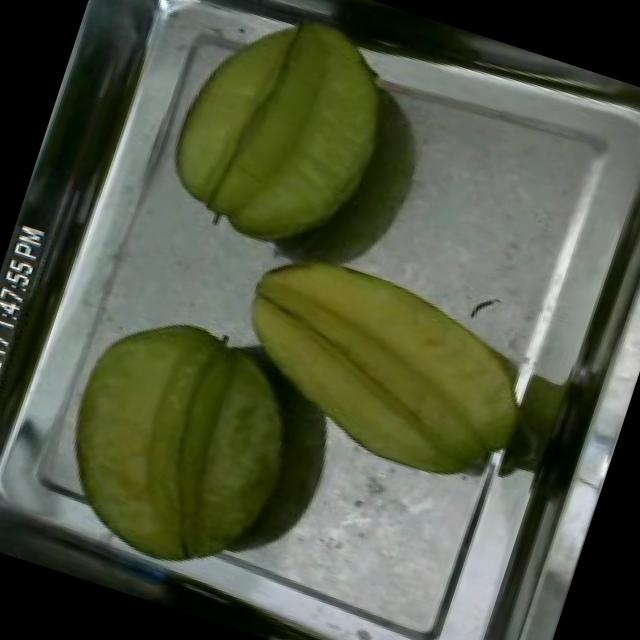fruit: (202, 225, 564, 510), (29, 284, 333, 598), (135, 0, 422, 282)
